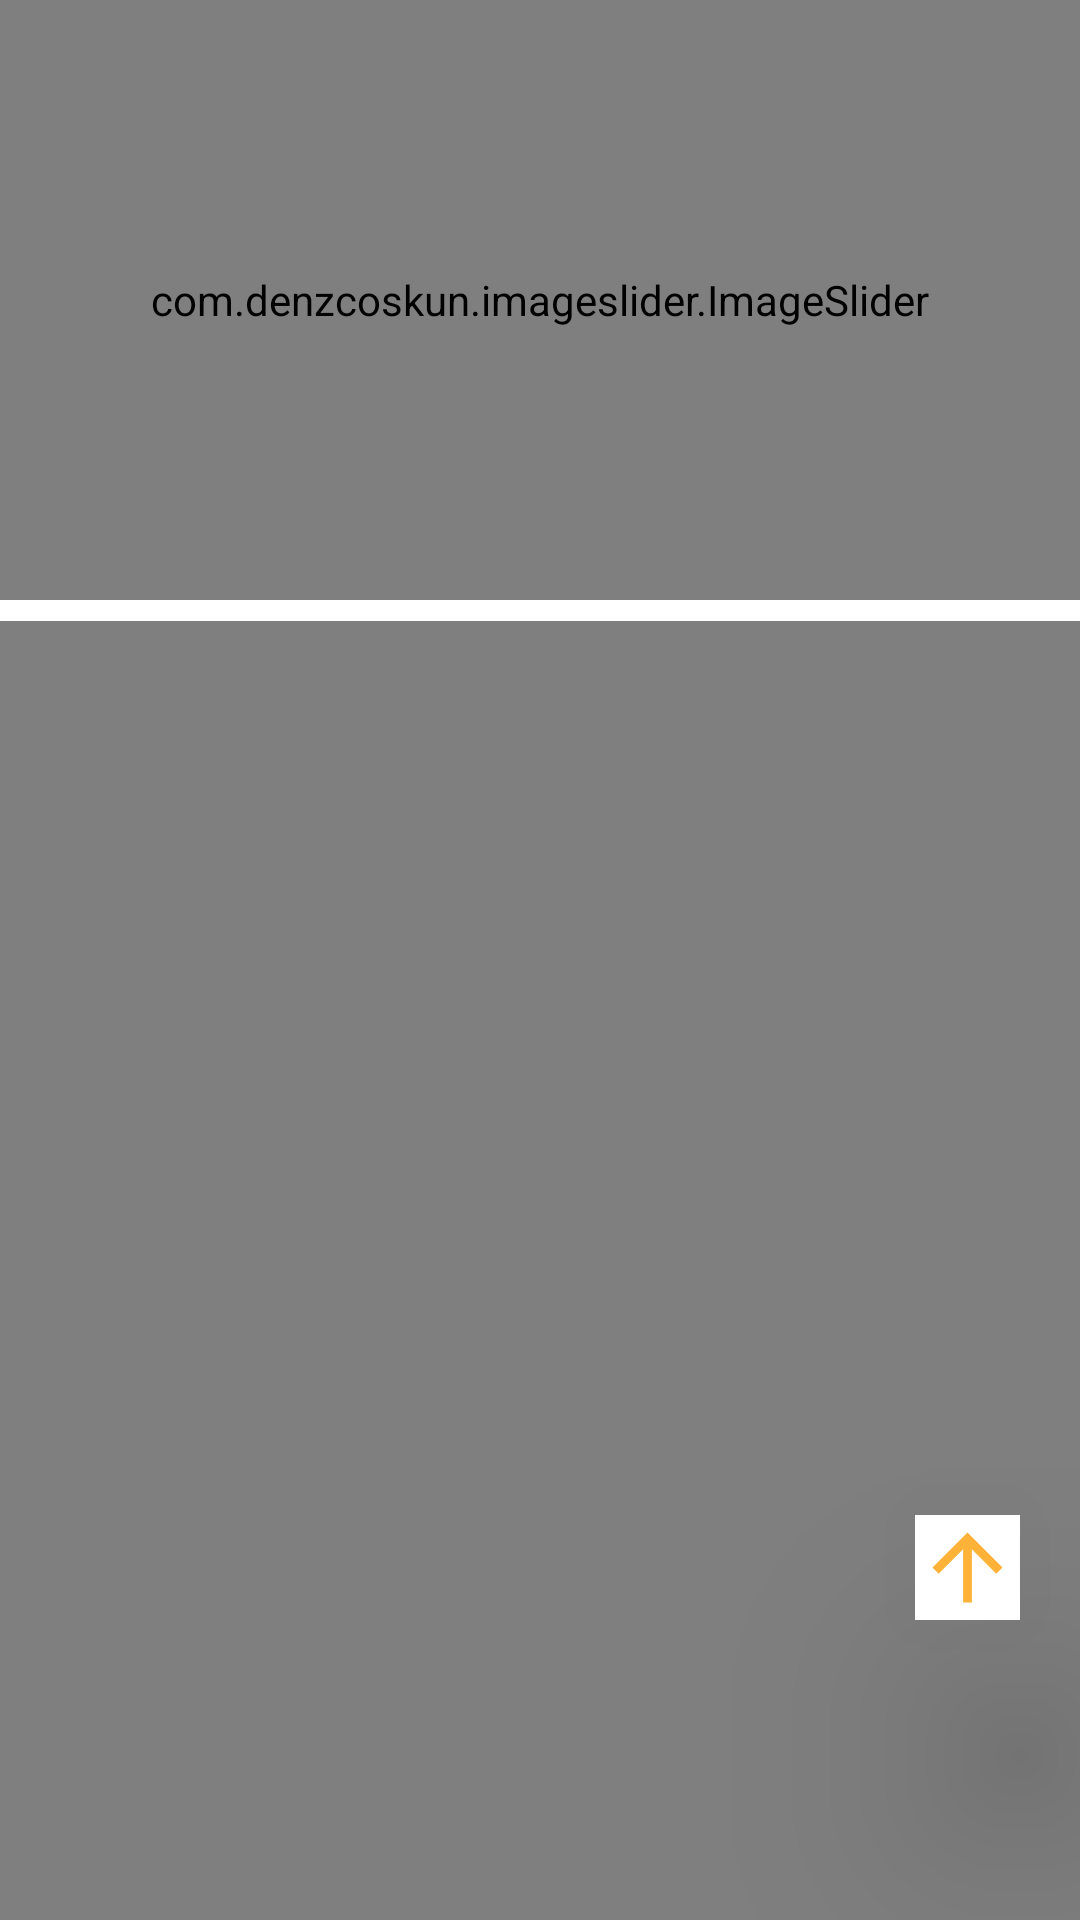

Point at icon controls on the screen. Image size 1080px×1920px, points as [x,y].
arrow upward: [967,1567]
